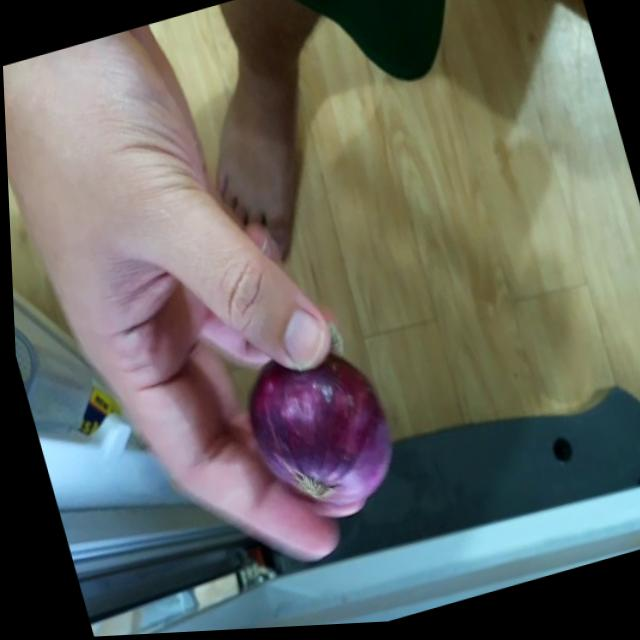onion: (228, 336, 407, 551)
